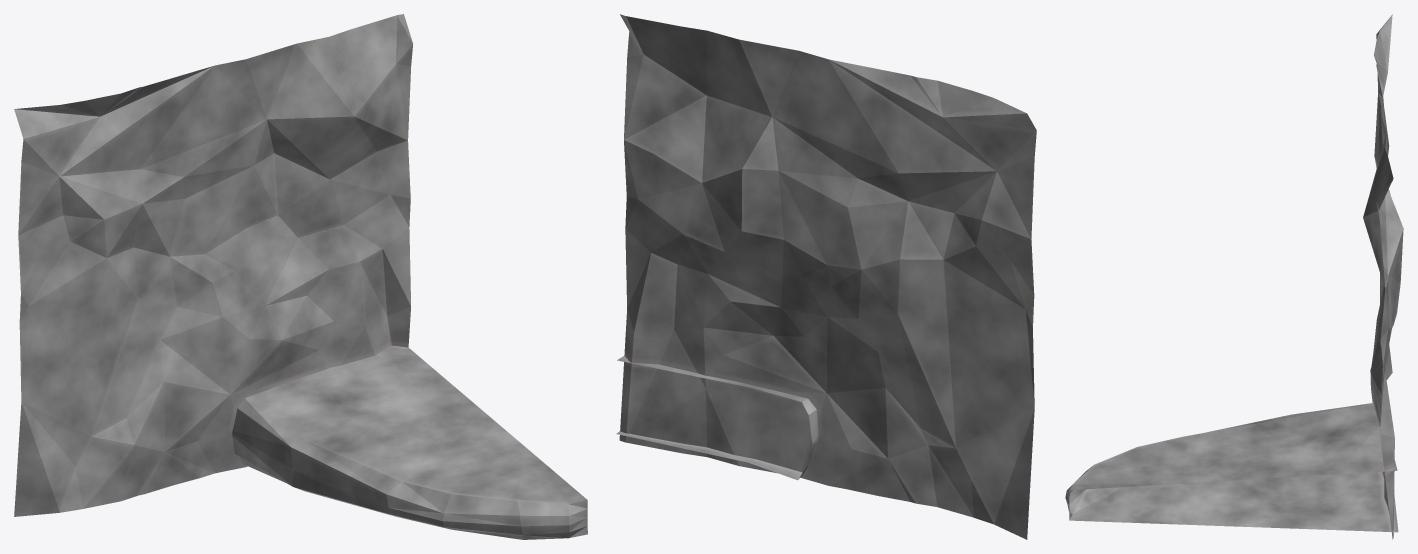
Rendered from WallShelfEnd2.gltf.
The picture shows the model from 3 angles, left to right: view 1: azimuth 30°, elevation 25°; view 2: azimuth 150°, elevation 25°; view 3: azimuth 270°, elevation 25°; orthographic projection. The views are drawn at different scales.
Parts seen in each view (by area): view 1: WallShelfEnd2; view 2: WallShelfEnd2; view 3: WallShelfEnd2.
Boxes of the visible parts, x1,y1,x2,y2 form: WallShelfEnd2: (14, 14, 587, 539); WallShelfEnd2: (616, 14, 1036, 539); WallShelfEnd2: (1065, 14, 1403, 539).
Size of the model in its own units: 5 by 5 by 4.27.
1 material, 1 textured.
